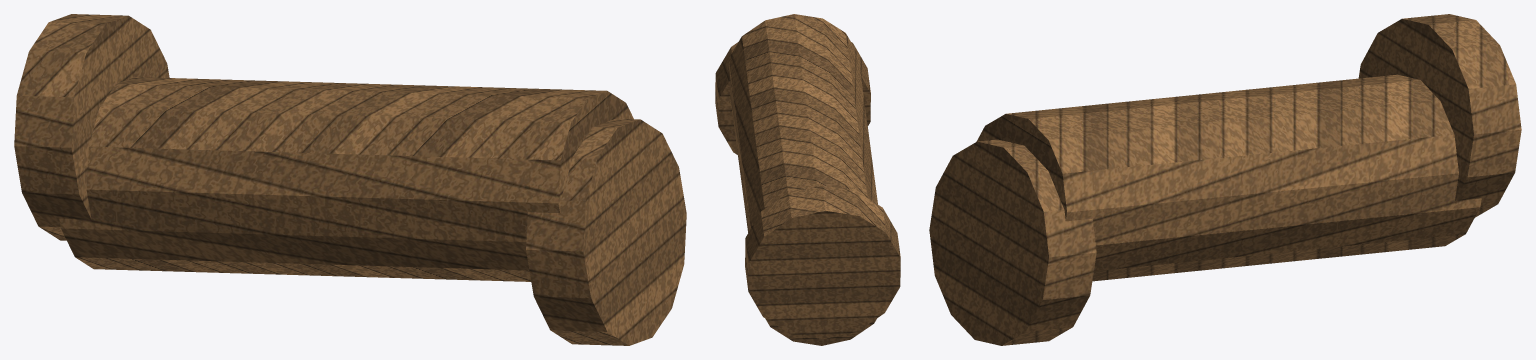
The model's file is find-scroll.glb.
The picture shows the model from 3 angles, left to right: view 1: azimuth 30°, elevation 25°; view 2: azimuth 150°, elevation 25°; view 3: azimuth 270°, elevation 25°; orthographic projection. The views are drawn at different scales.
Parts seen in each view (by area): view 1: find-scroll; view 2: find-scroll; view 3: find-scroll.
Boxes of the visible parts, x1,y1,x2,y2 form: find-scroll: [14, 14, 686, 345]; find-scroll: [715, 14, 900, 345]; find-scroll: [929, 14, 1521, 345].
Bounding box in the file's own units: 0.4216 × 0.2226 × 0.5062.
1 material, 1 textured.
